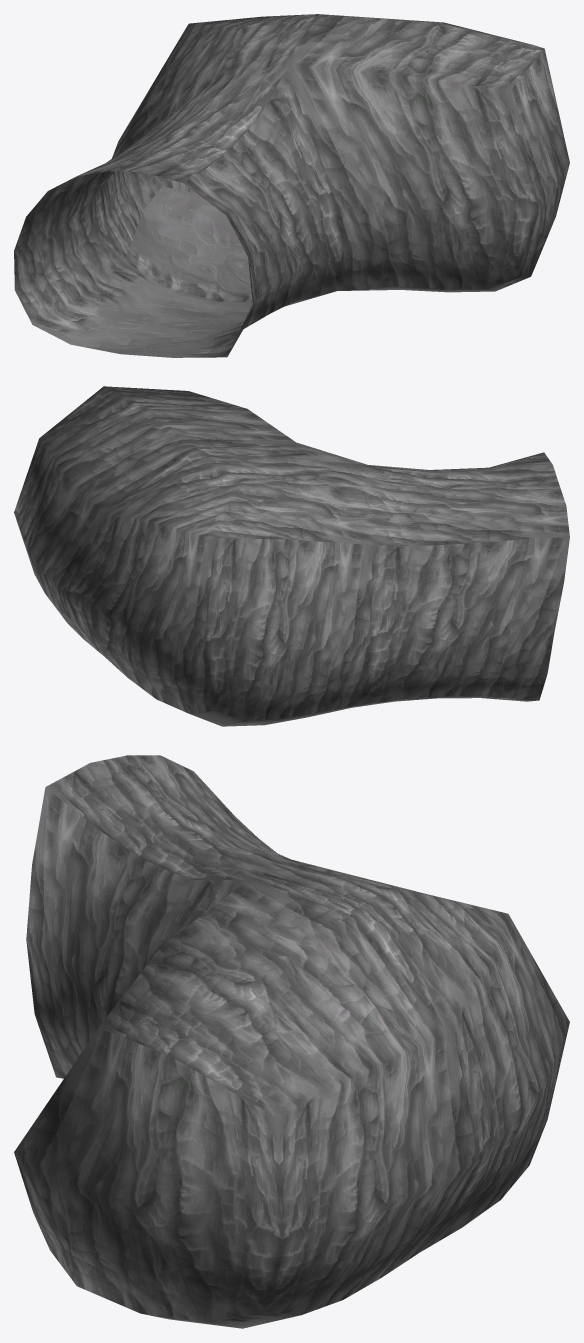
The model's file is SWORDLIGHT20_PS-AREA03-05TRANS_02.obj.
3 renders of one model, top to bottom at view 1: azimuth 30°, elevation 25°; view 2: azimuth 150°, elevation 25°; view 3: azimuth 270°, elevation 25°, orthographic. The views are drawn at different scales.
Visible parts, largest first — view 1: ea03-05Trans_02; view 2: ea03-05Trans_02; view 3: ea03-05Trans_02.
Boxes of the visible parts, x1=… form: ea03-05Trans_02: x1=14, y1=14, x2=569, y2=357; ea03-05Trans_02: x1=14, y1=386, x2=569, y2=726; ea03-05Trans_02: x1=14, y1=755, x2=569, y2=1328.
Bounding box in the file's own units: 1720 × 735 × 1105.
